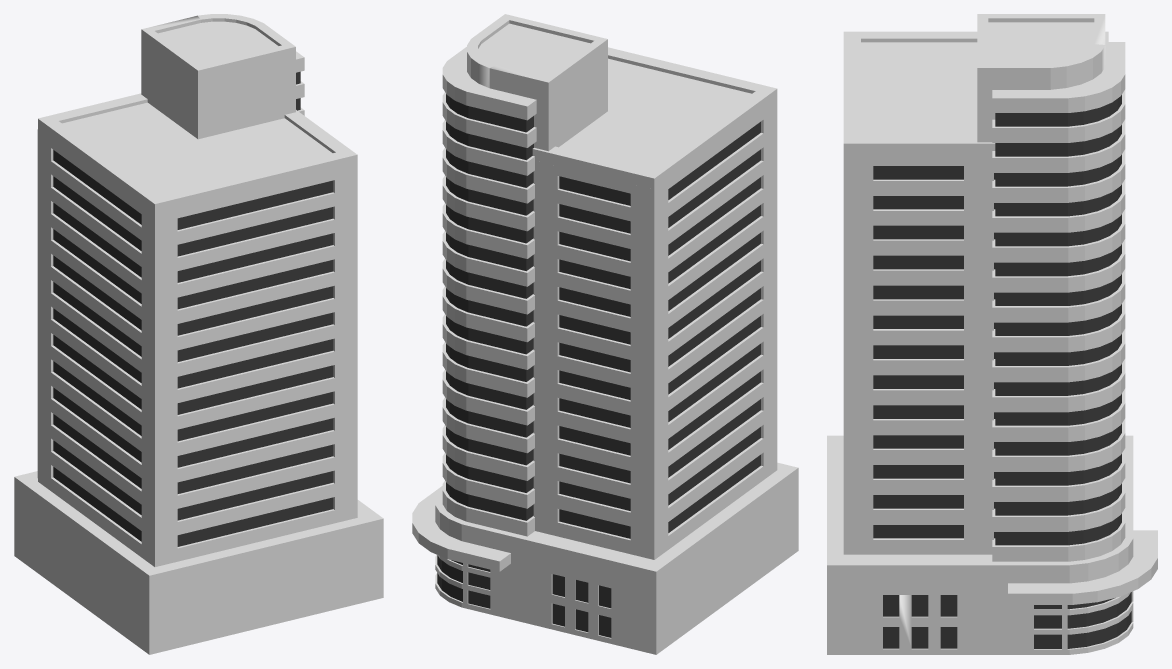
File: SPW_Urban_Bldg_04.gltf
The picture shows the model from 3 angles, left to right: view 1: azimuth 30°, elevation 25°; view 2: azimuth 150°, elevation 25°; view 3: azimuth 270°, elevation 25°; orthographic projection. The views are drawn at different scales.
Parts seen in each view (by area): view 1: SPW_Urban_Bldg_04; view 2: SPW_Urban_Bldg_04; view 3: SPW_Urban_Bldg_04.
Boxes of the visible parts, x1=… form: SPW_Urban_Bldg_04: x1=14, y1=14, x2=383, y2=654; SPW_Urban_Bldg_04: x1=412, y1=14, x2=798, y2=654; SPW_Urban_Bldg_04: x1=827, y1=14, x2=1157, y2=654.
Size of the model in its own units: 790 by 1514 by 790.
Materials: 1 (1 with a texture image).
